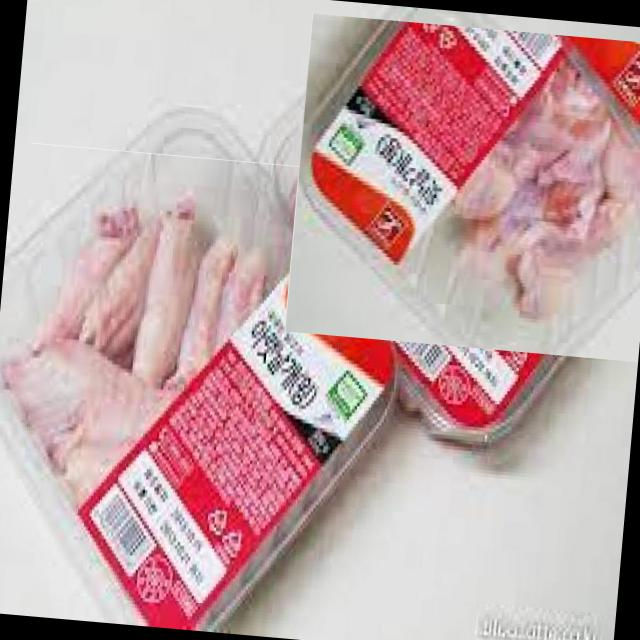chicken: (0, 142, 371, 613), (284, 12, 640, 361)
